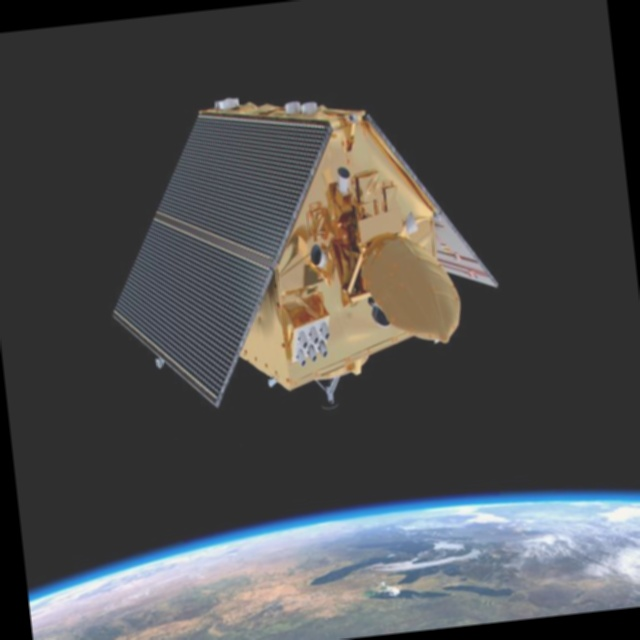satellite: (85, 62, 516, 434)
